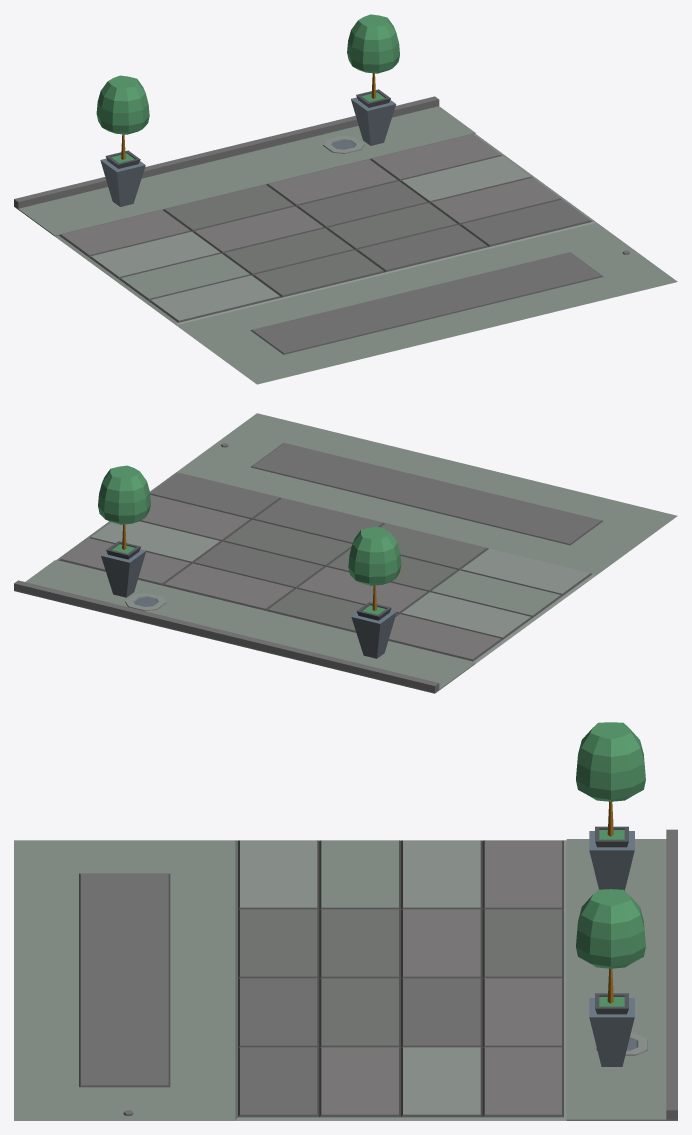
The model's file is OpenRoad_C.gltf.
3 views of the same model, one above another, from view 1: azimuth 30°, elevation 25°; view 2: azimuth 150°, elevation 25°; view 3: azimuth 270°, elevation 25° (orthographic). The views are drawn at different scales.
Parts seen in each view (by area): view 1: Scifi_Panel_02 Plaza014_group4.001; view 2: Scifi_Panel_02 Plaza014_group4.001; view 3: Scifi_Panel_02 Plaza014_group4.001.
Boxes of the visible parts, <box> form: Scifi_Panel_02 Plaza014_group4.001: <box>14,14,677,384</box>; Scifi_Panel_02 Plaza014_group4.001: <box>14,413,677,693</box>; Scifi_Panel_02 Plaza014_group4.001: <box>14,722,677,1120</box>.
Size of what is drawn, in the model's own units: 10 by 2.77 by 10.
1 material, 1 textured.
